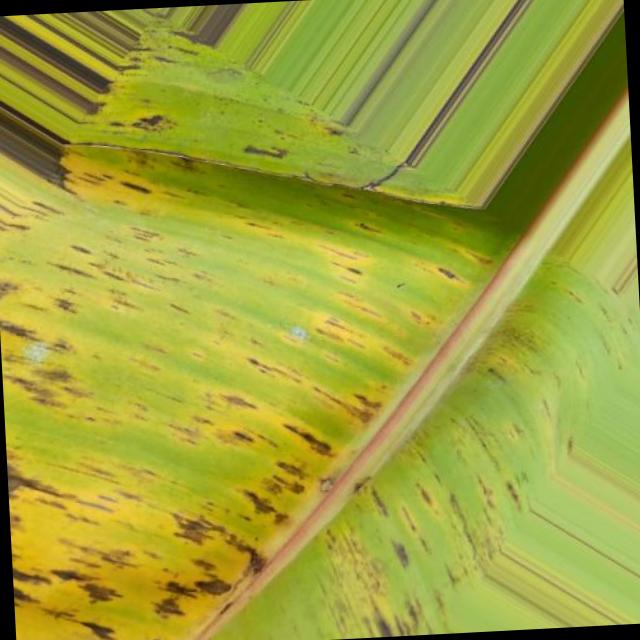Banana_Black_Sigatoka: (13, 432, 460, 640), (0, 57, 204, 436), (255, 165, 498, 435)
